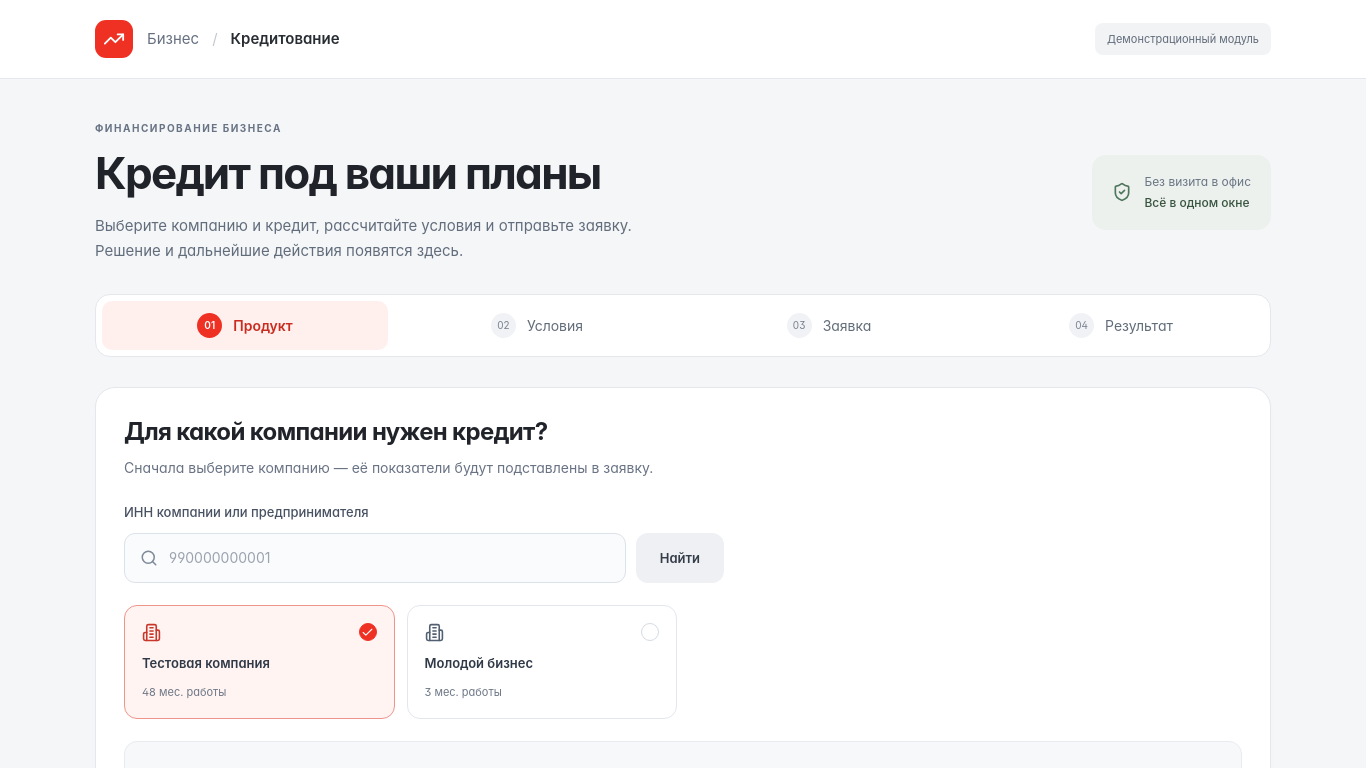
it: selects a company before the credit and carries its actual period and financials into the form
Expected: the heading "Для какой компании нужен кредит?" is shown, 124,417 -> 547,446
Click the button "Молодой бизнес 3 мес. работы" at (479, 663), box 406,605 -> 677,719
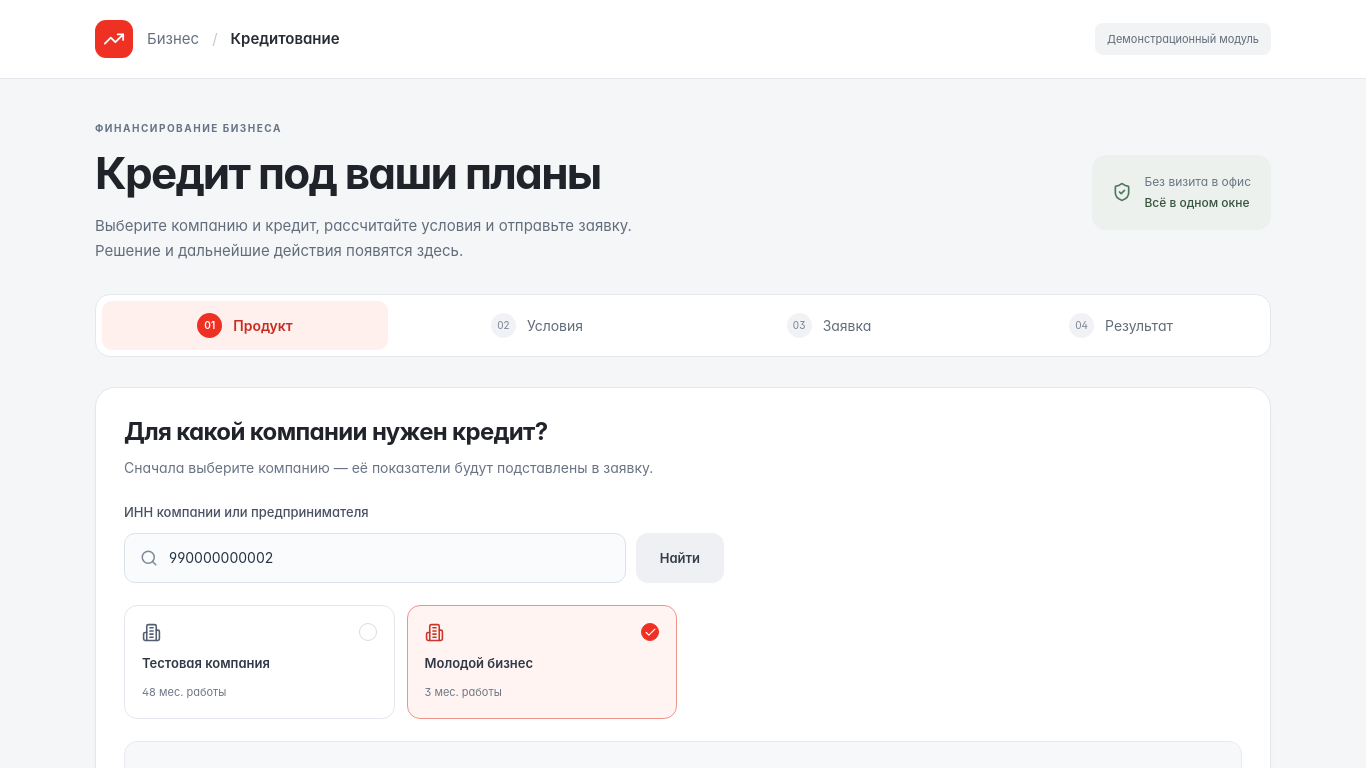
Press the mouse on the tab "03 Заявка" at (829, 326), box 686,301 -> 972,350
(page scrolled)
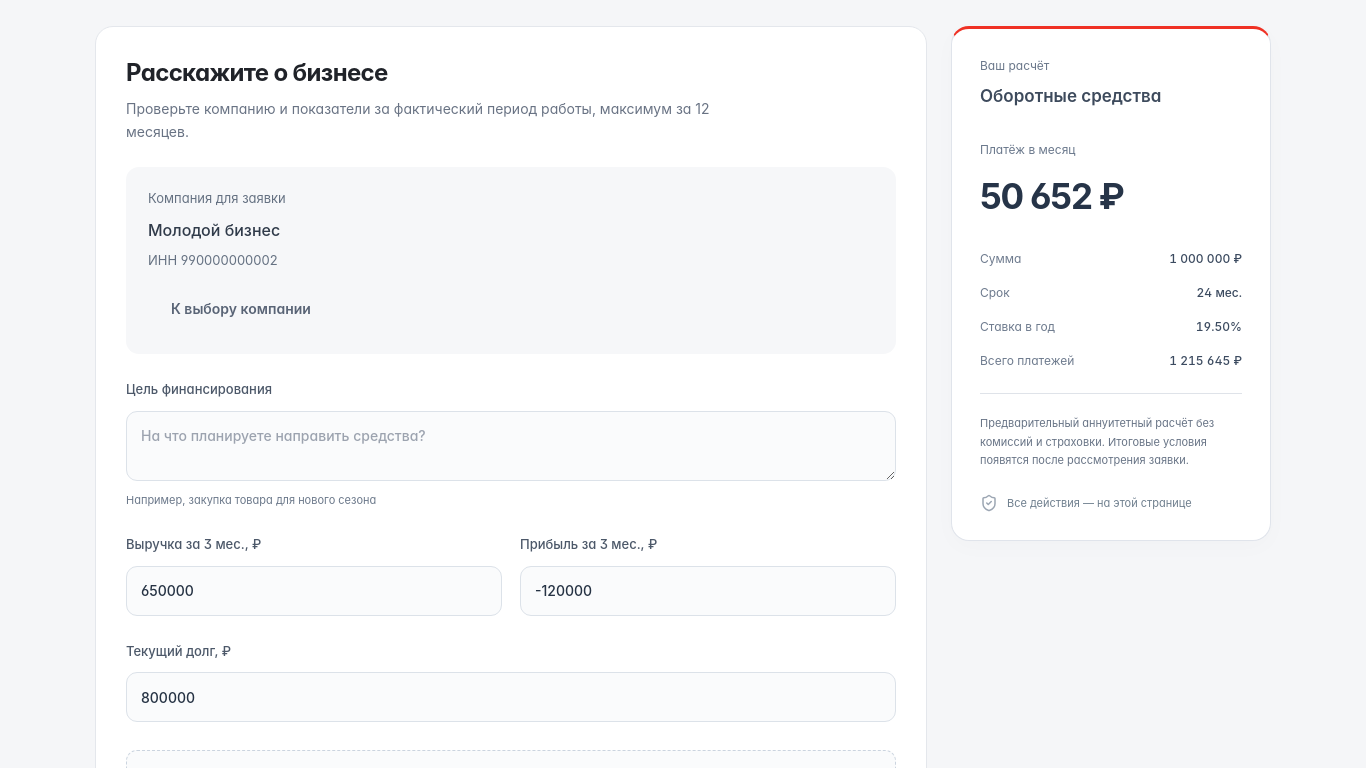
Expected: the number field labelled "Выручка за 3 мес., ₽" holds "650000", 126,566 -> 502,616
Expected: the number field labelled "Прибыль за 3 мес., ₽" holds "-120000", 520,566 -> 896,616
Expected: the number field labelled "Текущий долг, ₽" holds "800000", 126,672 -> 896,722
